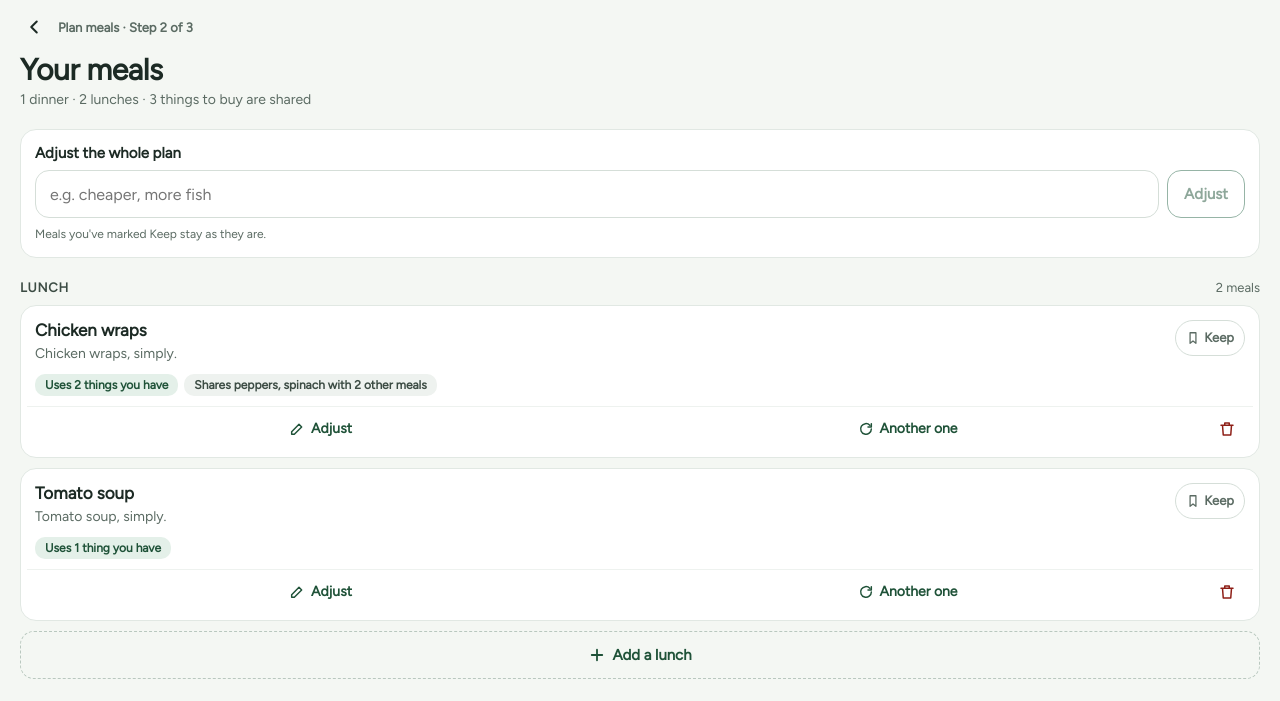
Test case: Plan meals: the plan › Adjust asks what to change and sends it; Cancel closes it
The width and height of the screenshot is (1280, 701).
Click the button "Adjust" below "Tomato soup, simply.".
click(320, 592)  # box [27, 570, 614, 614]
(page scrolled)
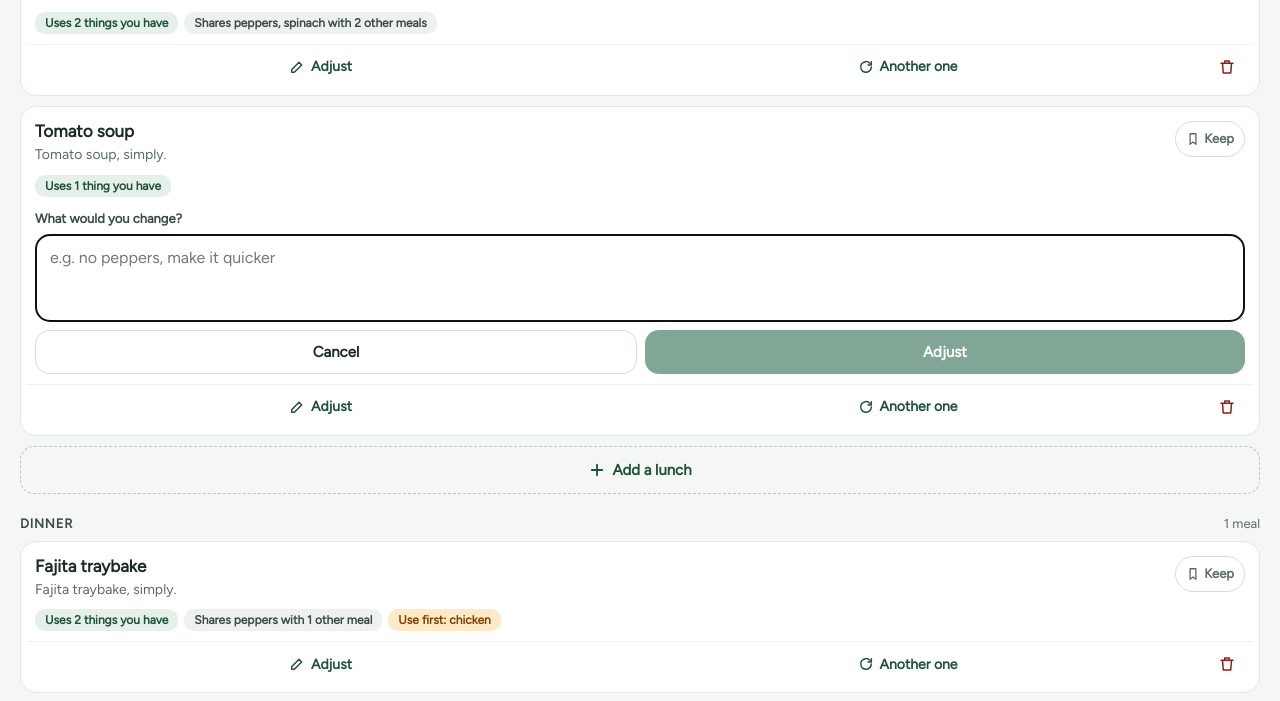
Click the button "Cancel".
click(336, 352)  # box [35, 330, 637, 374]
(page scrolled)
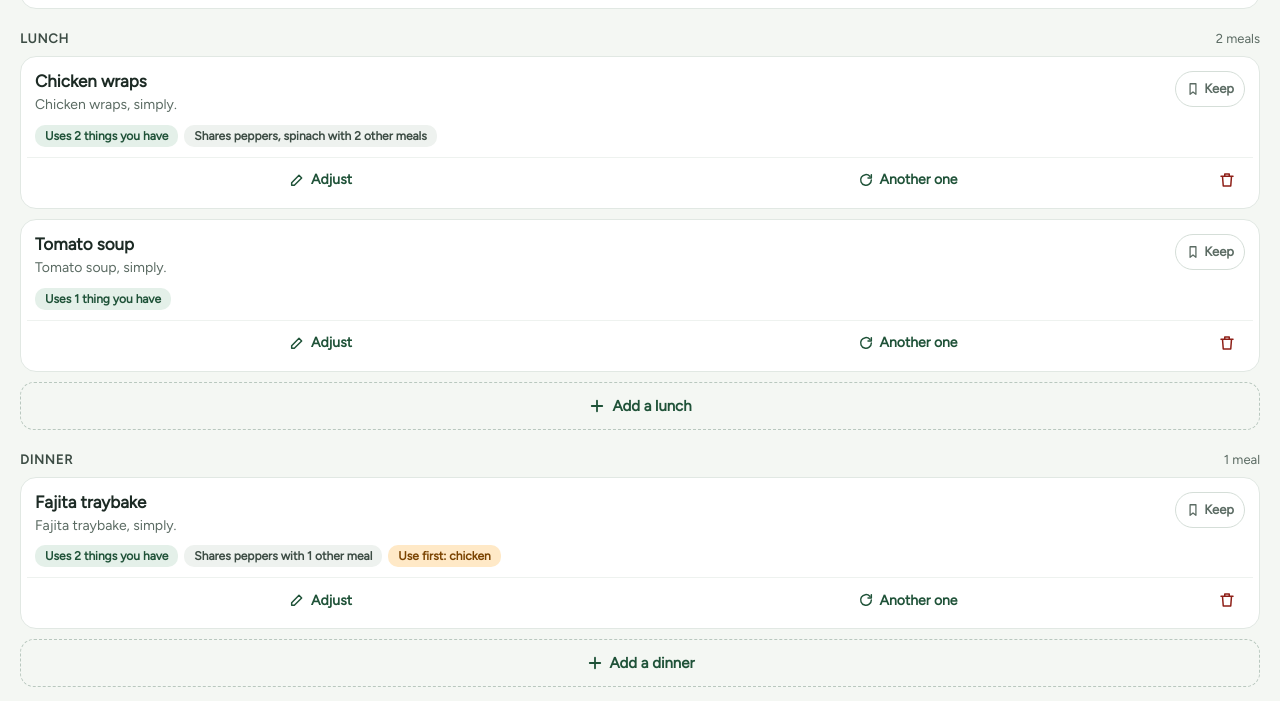
Now the label labelled "What would you change?" is gone
Click the button "Adjust" below "Tomato soup, simply.".
click(320, 343)  # box [27, 321, 614, 365]
(page scrolled)
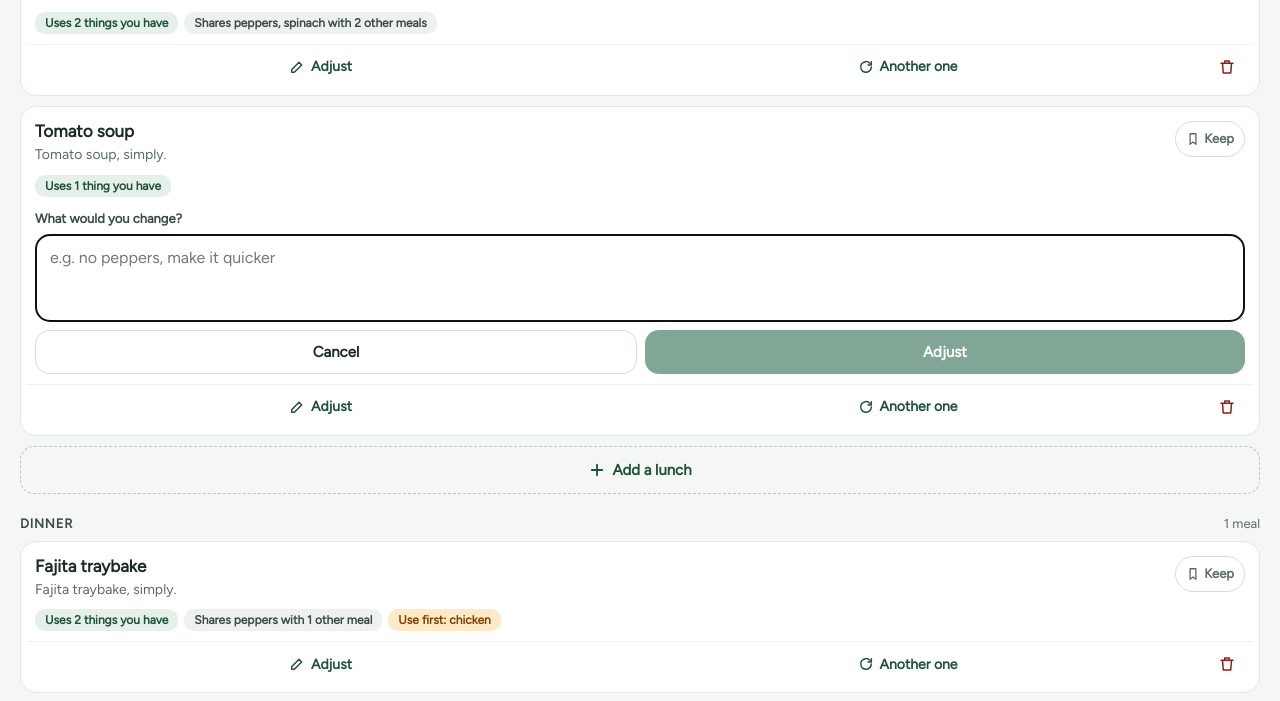
Now the 2nd button "Adjust" is disabled, box [645, 330, 1245, 374]
Type " make it spicier " into the text box labelled "What would you change?".
click(640, 278); type(" make it spicier ")  # box [35, 234, 1245, 322]
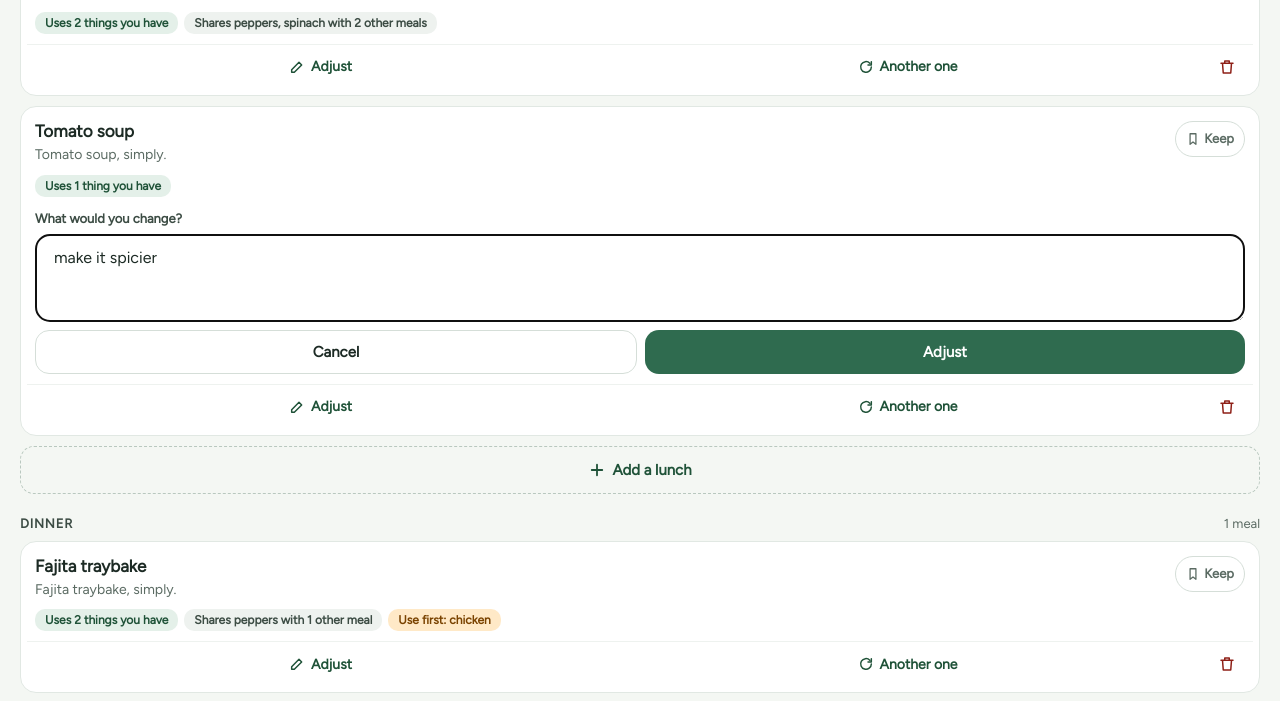
Click the 2nd button "Adjust".
click(945, 352)  # box [645, 330, 1245, 374]
(page scrolled)
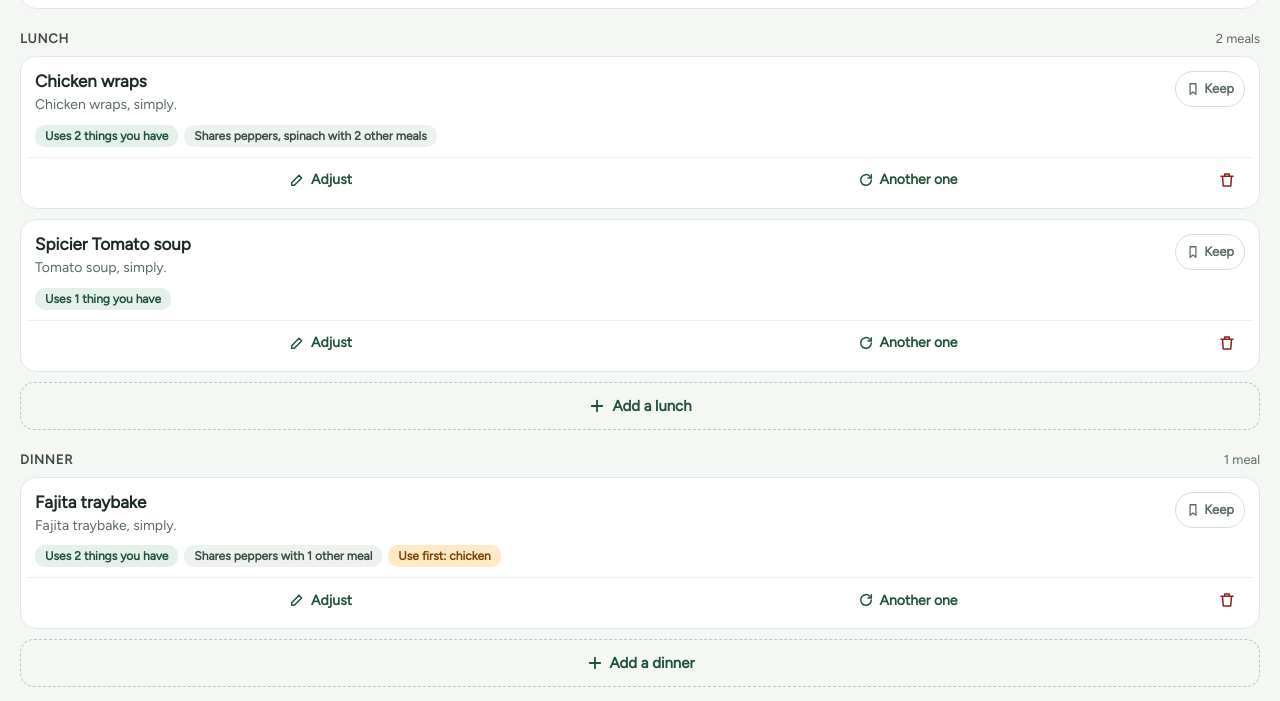
Now the element "Spicier Tomato soup" is shown, box [20, 219, 1260, 372]
Now the label labelled "What would you change?" is gone
